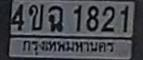1: (120, 4, 128, 32), (73, 3, 81, 30)
2: (100, 5, 114, 31)
4: (10, 3, 23, 30)
8: (86, 5, 98, 30)
A02: (28, 3, 43, 30)
A09: (48, 5, 62, 31)
BKK: (21, 38, 118, 55)
